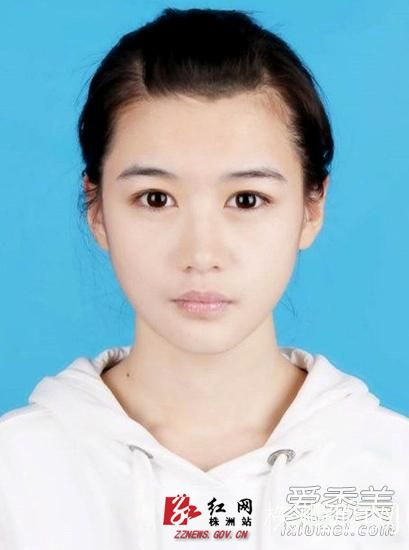unmask: (107, 113, 297, 350)
